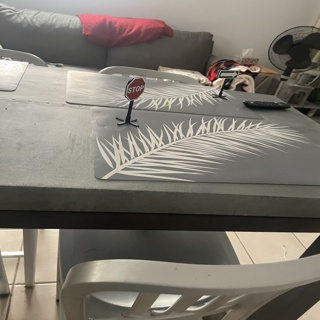sign_stop: (125, 75, 143, 101)
